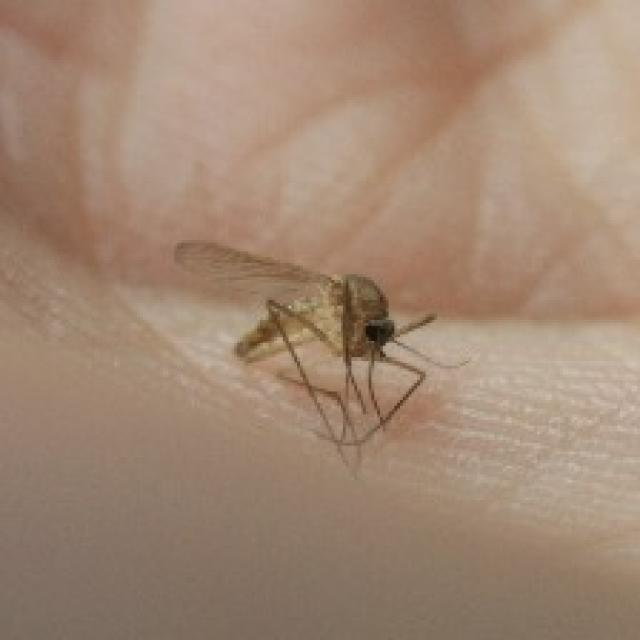culex: (172, 237, 468, 472)
